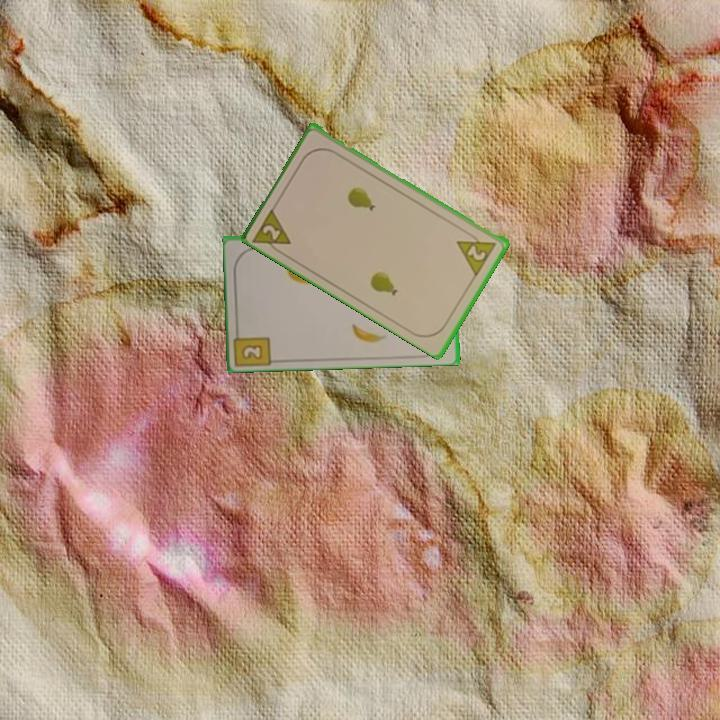2b: (233, 323, 276, 367)
2p: (250, 203, 295, 258), (453, 228, 499, 278)
